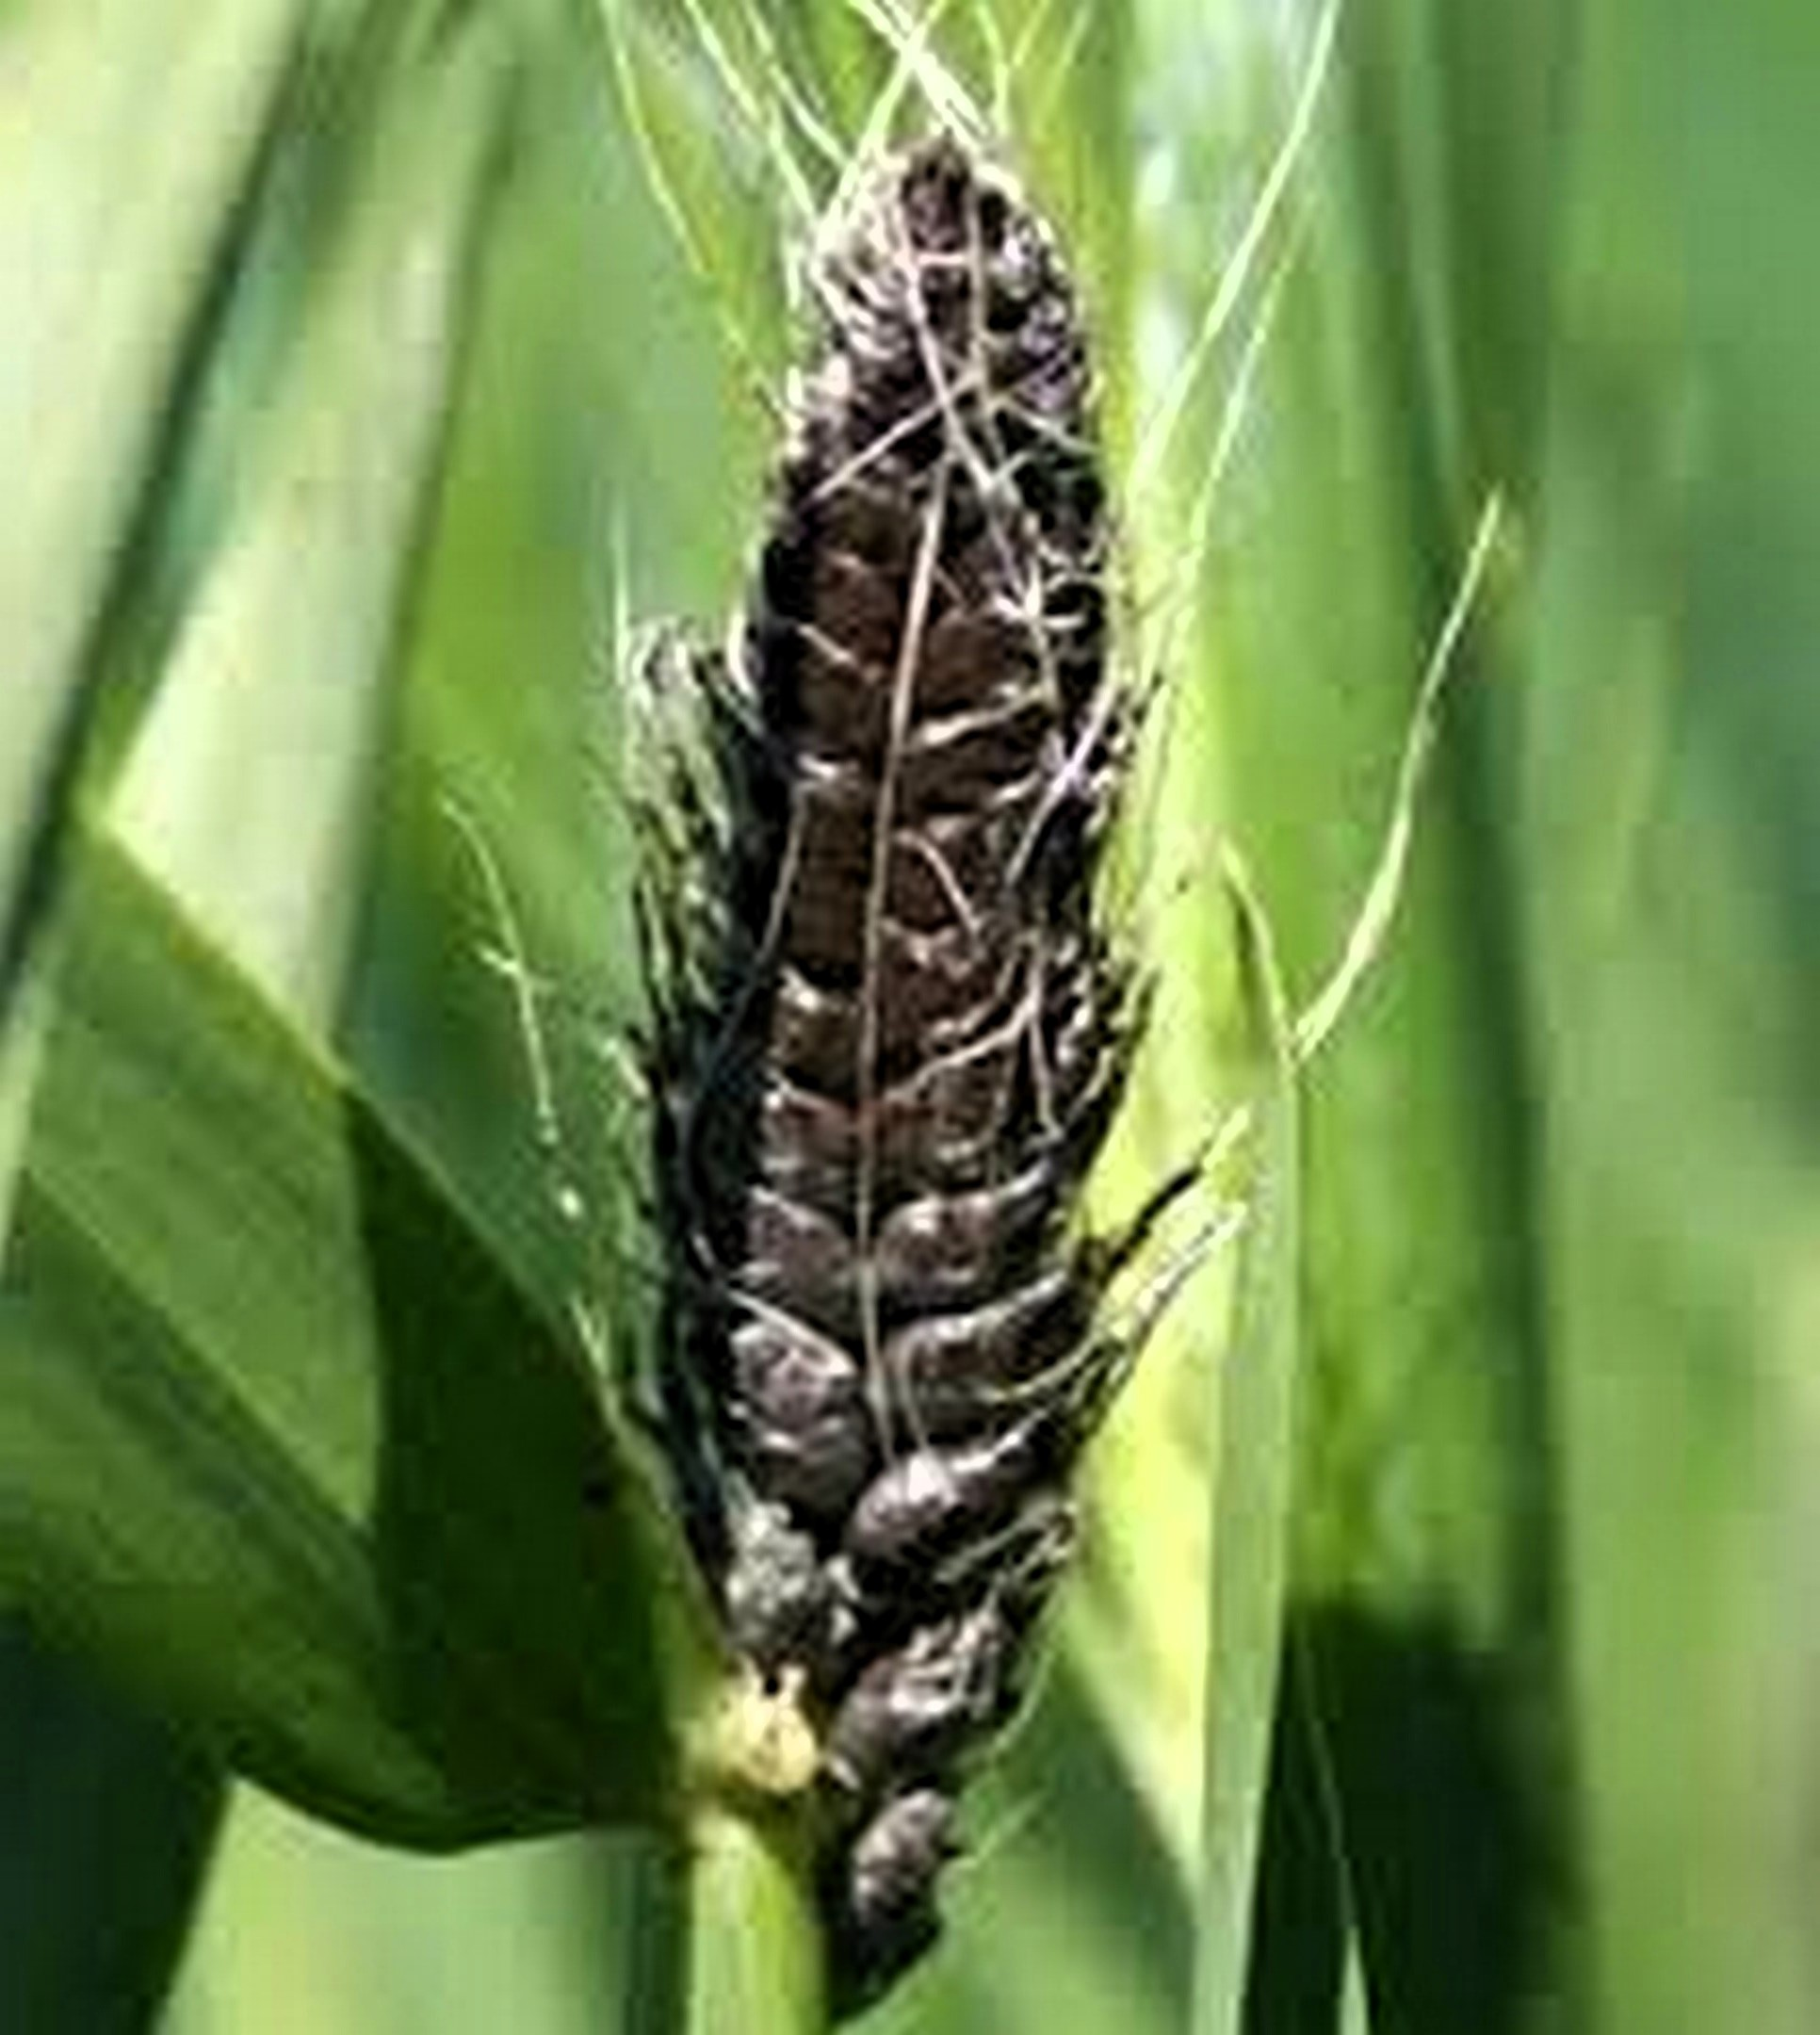Wheat Loose Smut: (592, 137, 1254, 1710)
